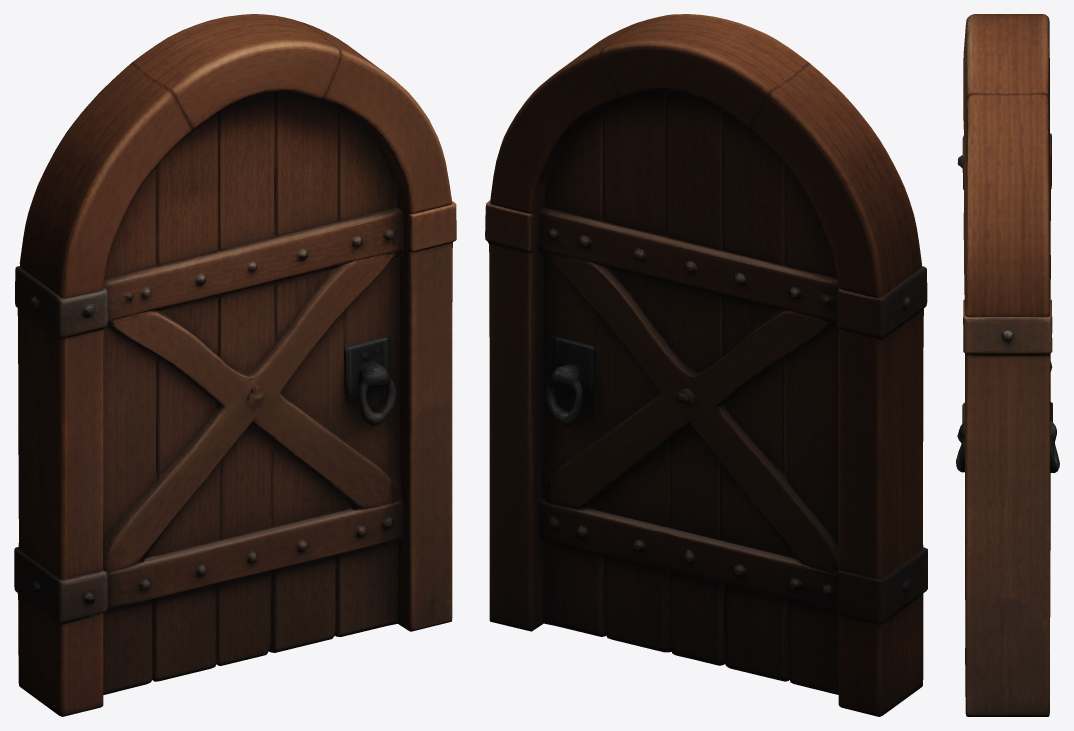
The model's file is door_wood_arched.glb.
3 views of the same model, side by side, from view 1: azimuth 30°, elevation 25°; view 2: azimuth 150°, elevation 25°; view 3: azimuth 270°, elevation 25° (orthographic). The views are drawn at different scales.
Parts seen in each view (by area): view 1: world; view 2: world; view 3: world.
Boxes of the visible parts, bbox=[...] form: world: bbox=[14, 14, 456, 716]; world: bbox=[485, 14, 927, 716]; world: bbox=[956, 14, 1059, 716].
Size of the model in its own units: 0.6865 by 1 by 0.1582.
Materials: 1 (1 with a texture image).
